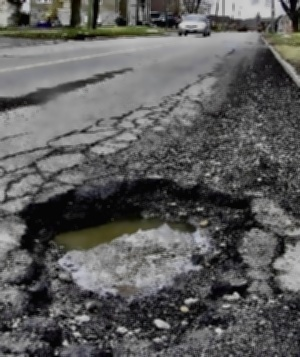pothole: (15, 175, 256, 356)
